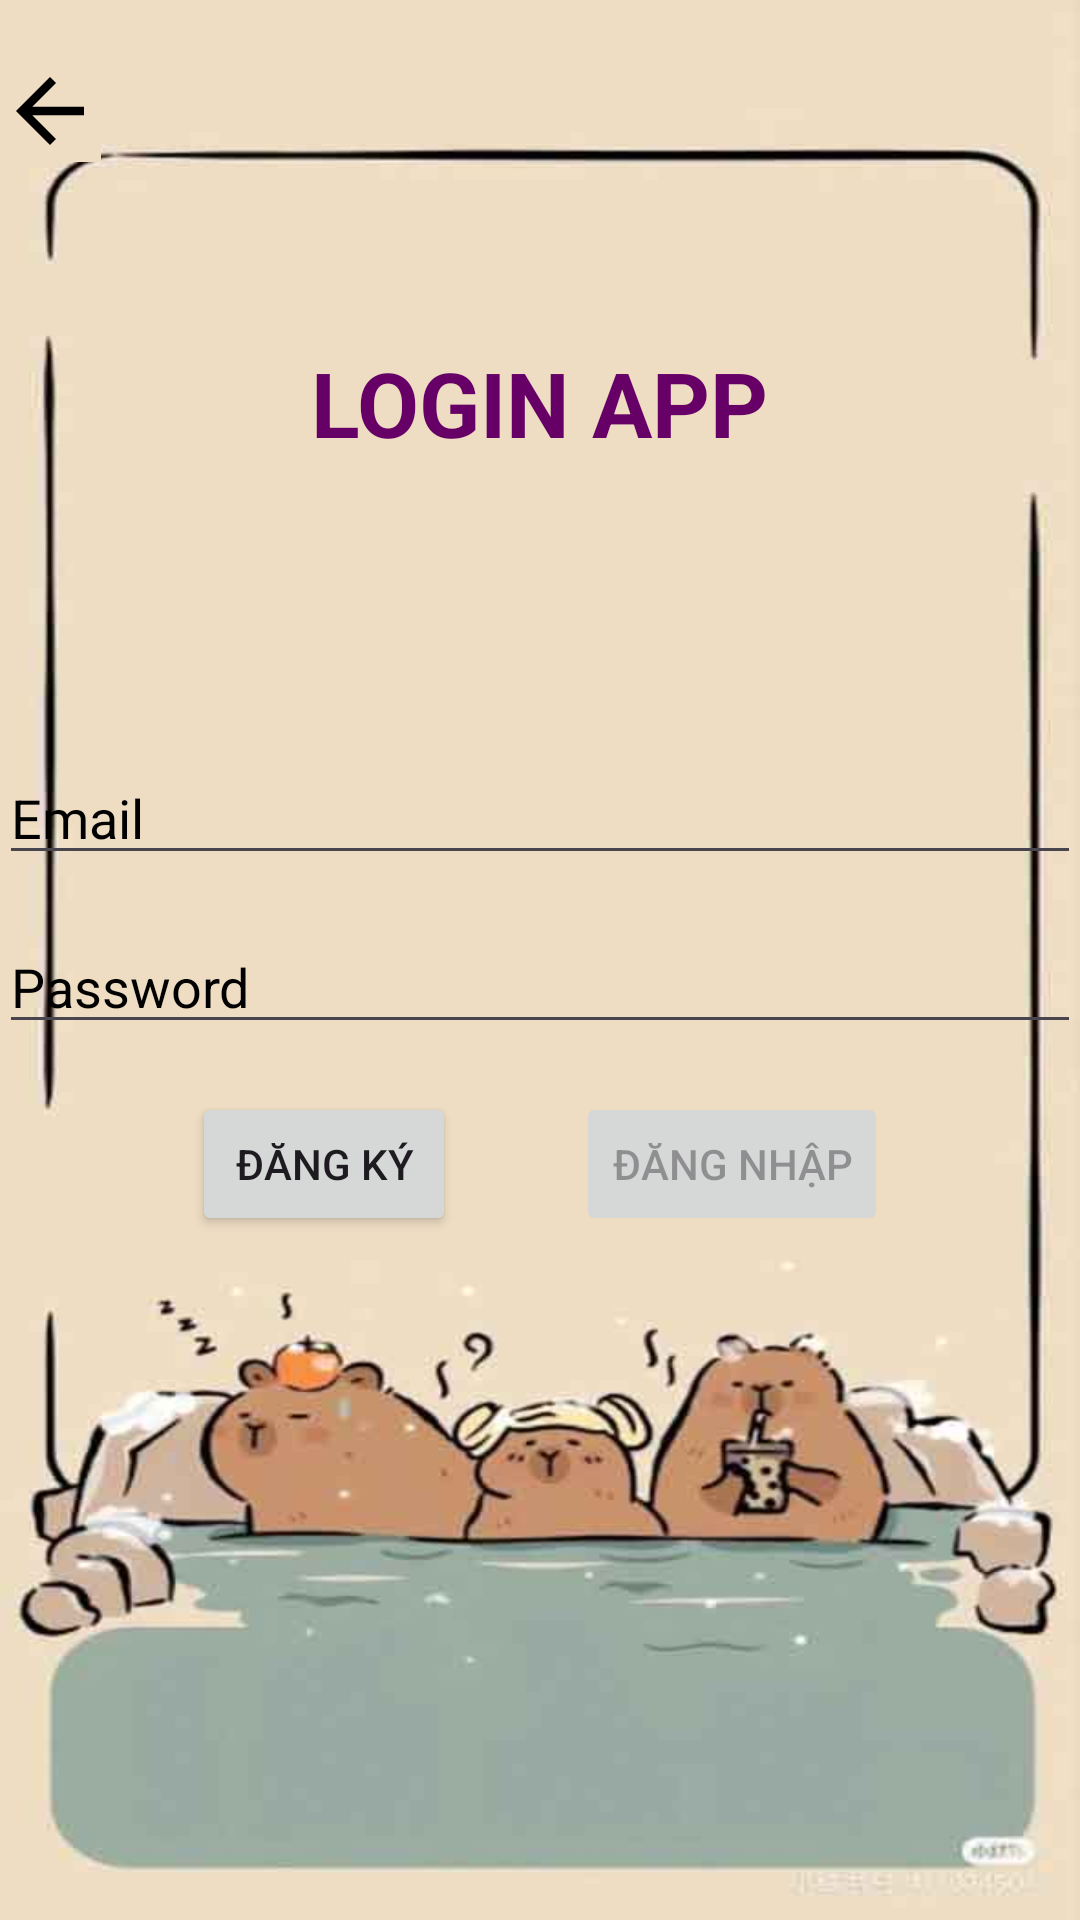

Where to tap for icons on this 1080×1920 app screen, as point (x, y):
arrow back: point (50, 111)
